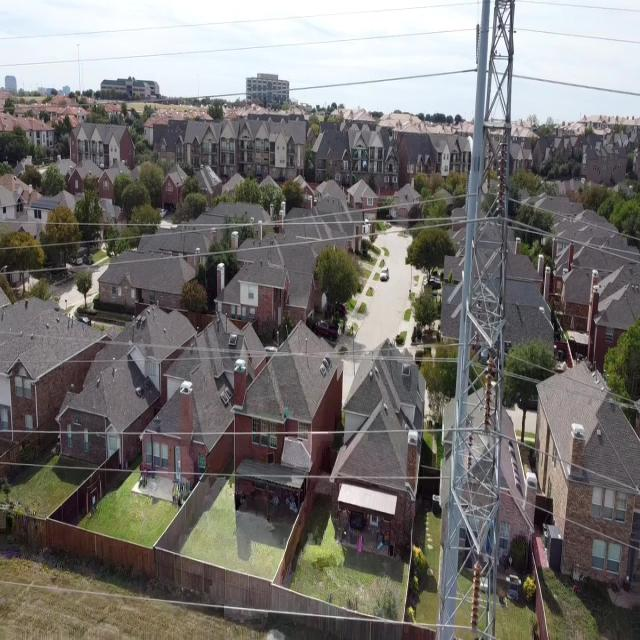杆塔: (433, 0, 519, 640)
正常绝缘子: (493, 126, 510, 228), (468, 551, 483, 636), (481, 346, 495, 436)
